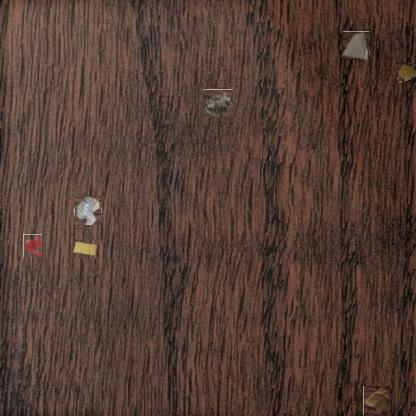dirty: (204, 88, 233, 117), (363, 387, 391, 416), (74, 196, 102, 224), (343, 32, 370, 60), (73, 240, 99, 258)
liquid: (394, 63, 416, 83), (23, 234, 42, 257)
